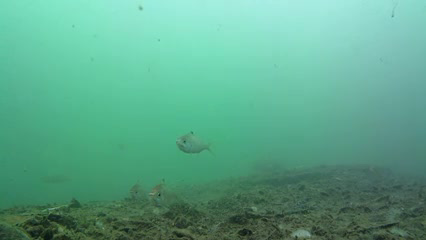smallfish: (169, 131, 216, 156)
